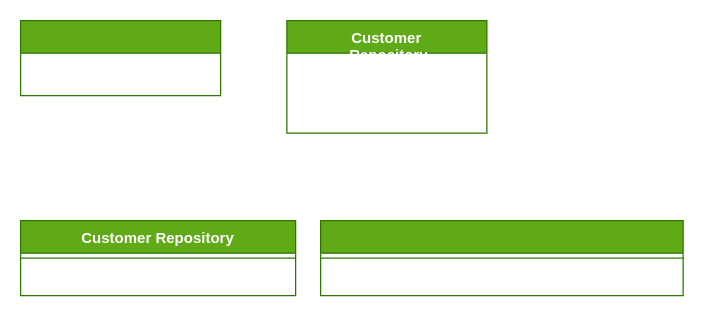
This 704x316 diagram has some shape labels left out. Here are the shapes that lost their labels. From the top down, the box of each, then its label:
(19, 19, 221, 96): Address Repository
(319, 219, 683, 296): Food Repository
